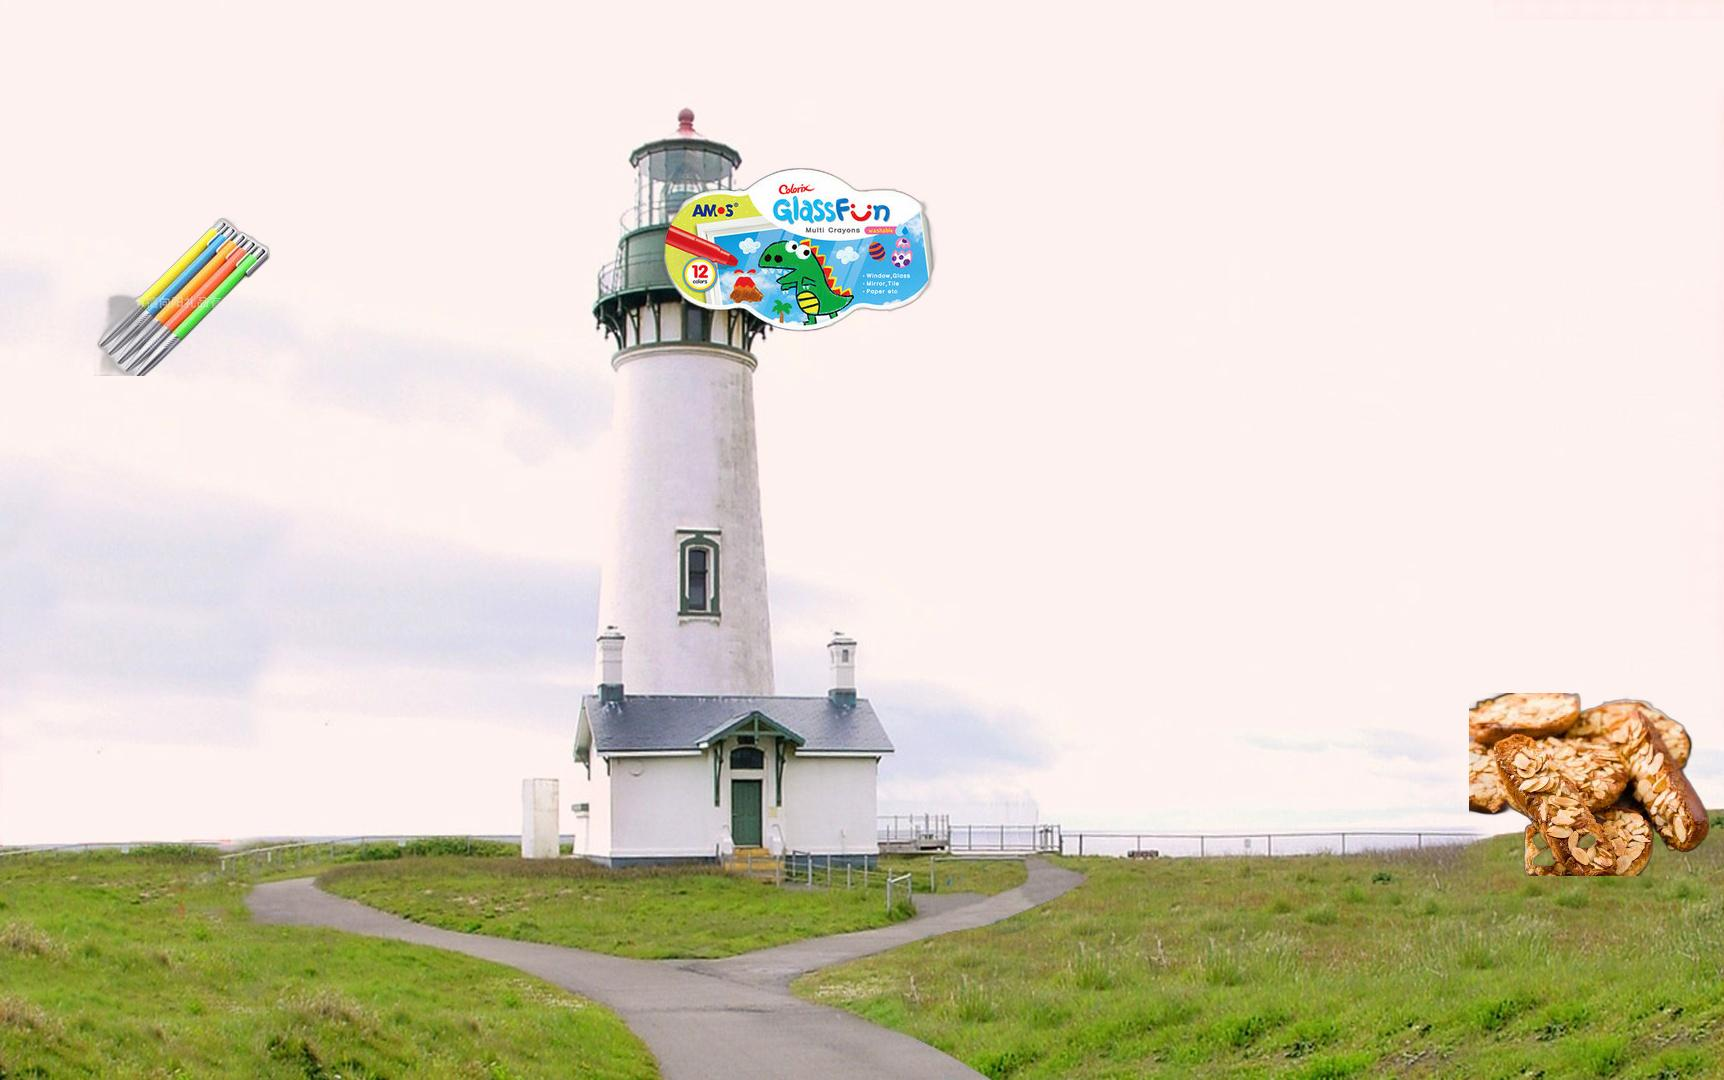biological: (1469, 693, 1712, 876)
penholder: (633, 109, 939, 333), (95, 215, 272, 376)
